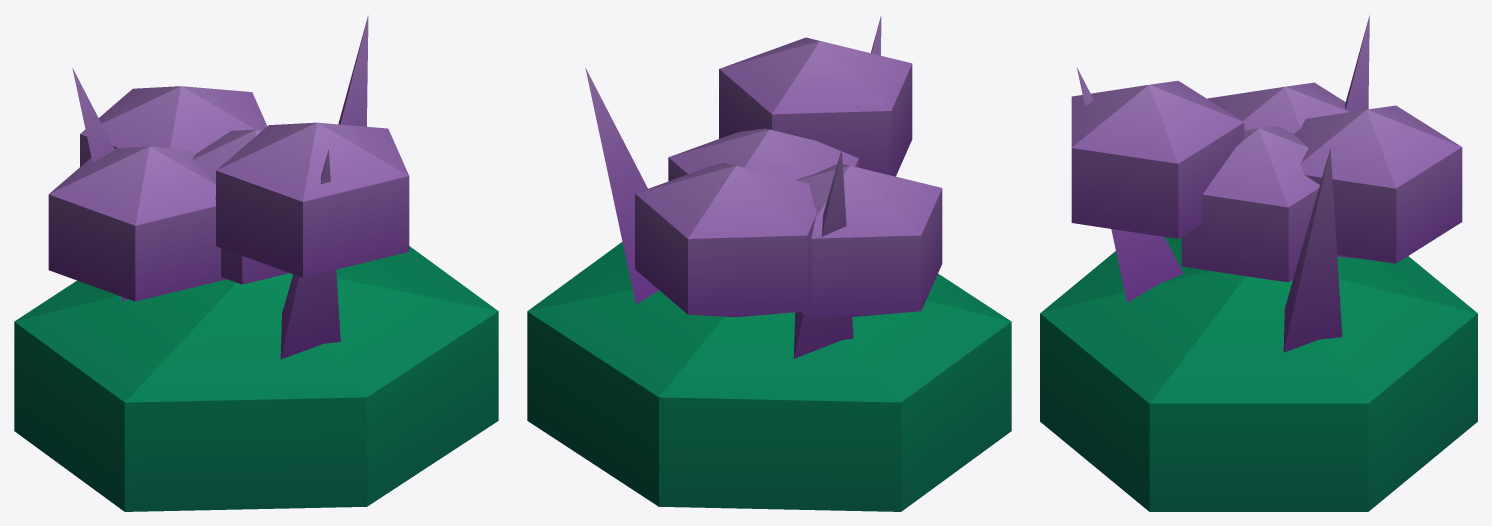
File: heather.glb
The picture shows the model from 3 angles, left to right: view 1: azimuth 30°, elevation 25°; view 2: azimuth 150°, elevation 25°; view 3: azimuth 270°, elevation 25°; orthographic projection.
Visible parts, largest first — view 1: heather; view 2: heather; view 3: heather.
Boxes of the visible parts, left/top/right/bottom form: heather: left=14, top=15, right=498, bottom=511; heather: left=527, top=15, right=1011, bottom=511; heather: left=1040, top=15, right=1477, bottom=511.
Bounding box in the file's own units: 0.465 × 0.48 × 0.4763.
1 material, 1 textured.
